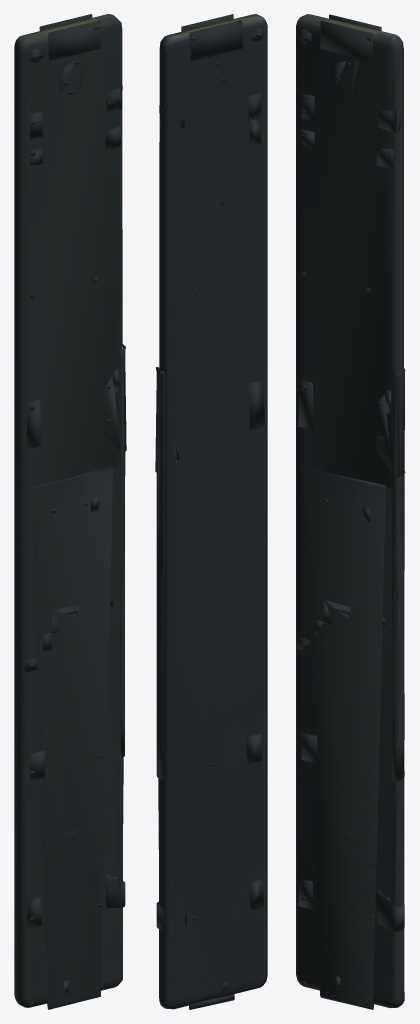
The model's file is p_panel.glb.
3 renders of one model, left to right at view 1: azimuth 30°, elevation 25°; view 2: azimuth 210°, elevation 25°; view 3: azimuth 330°, elevation 25°, orthographic.
Size of the model in its own units: 0.1079 by 0.9507 by 0.0225.
Materials: 1 (1 with a texture image).
